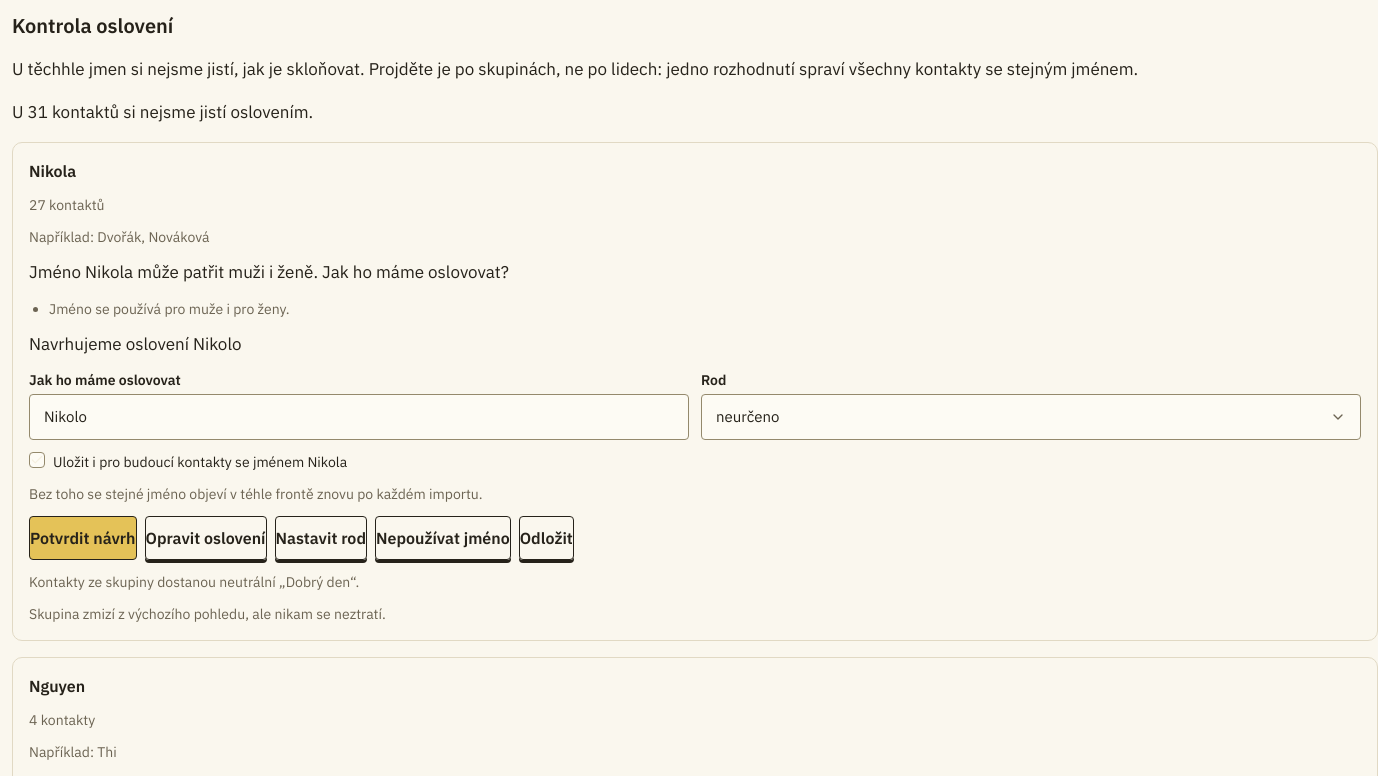
Scenario: VocativeReview › odložení skupinu schová a přežije v prohlížeči
Click the button "Odložit": click(546, 538) [519, 516, 574, 560]
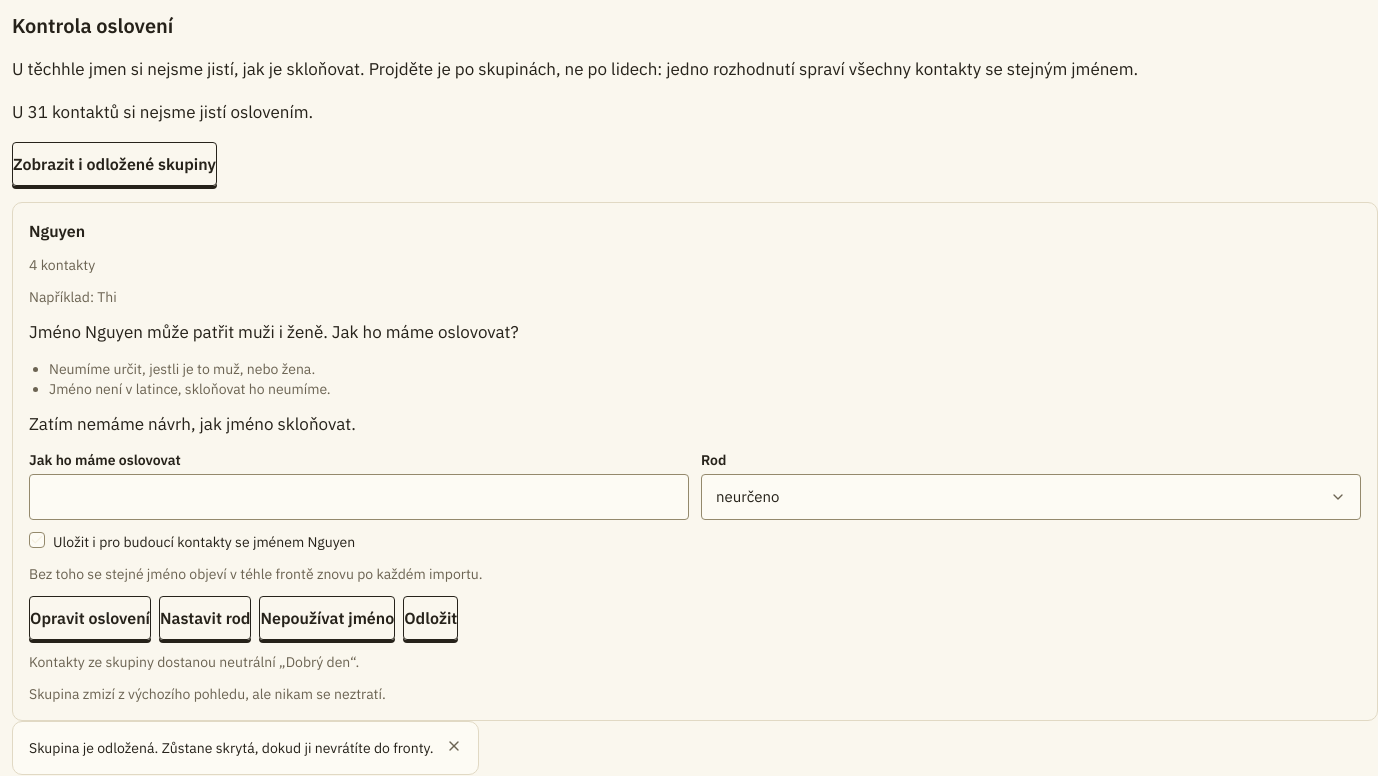
expect the number of list items with test id "vocative-group" is 1: met
